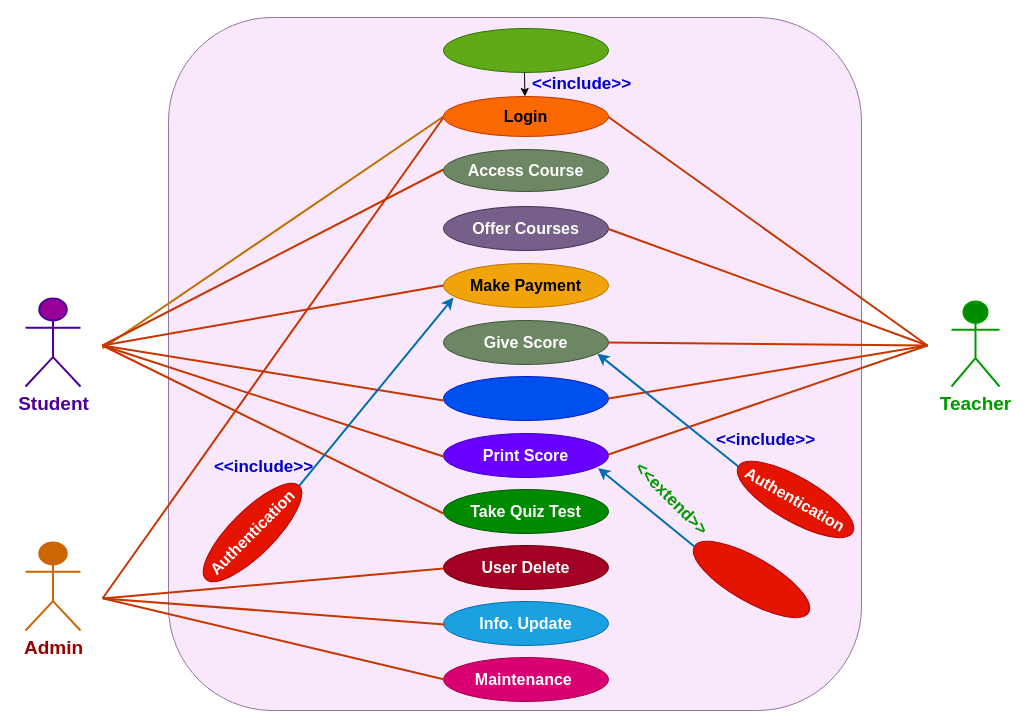
Some shapes in this 1028 by 728 pixel diagram are drawn without their labels. The shapes that lost their labels are listed below. From the top down, each one's centre as x and y in pixels, then its label:
At [525,50]: "Registration".
At [525,398]: "View Score".
At [751,579]: "Download".
